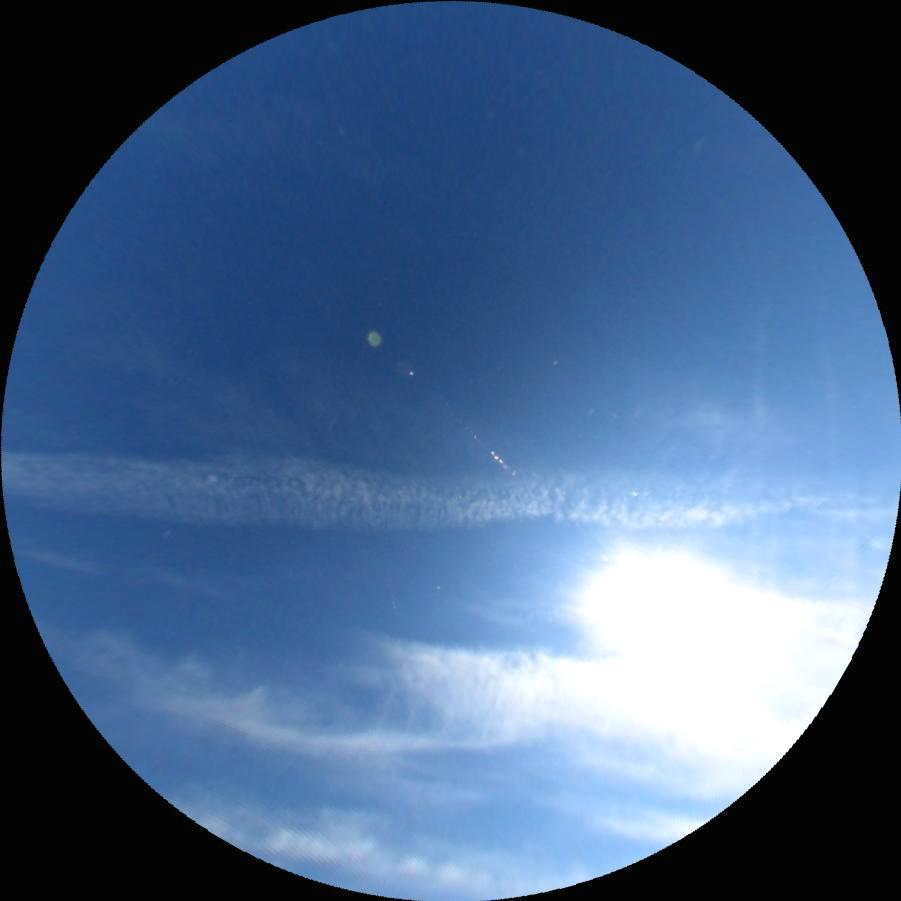contrail veryold: (0, 445, 897, 545), (754, 324, 767, 417)
sun: (580, 537, 764, 695)
